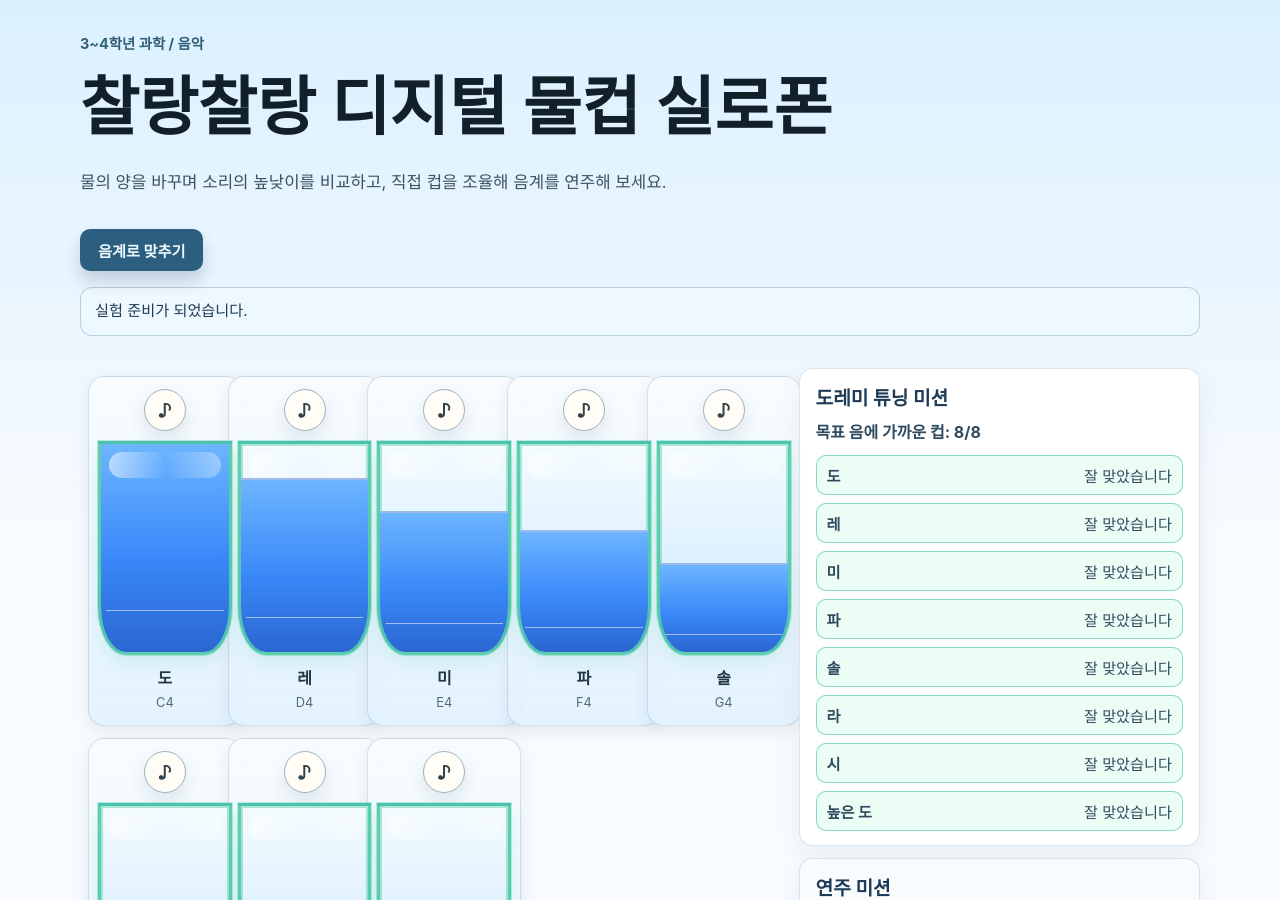
Scenario: App › plays 도 cup and updates status message
The width and height of the screenshot is (1280, 900).
Click the button named "도 컵 치기": (165, 410) [144,389,186,431]
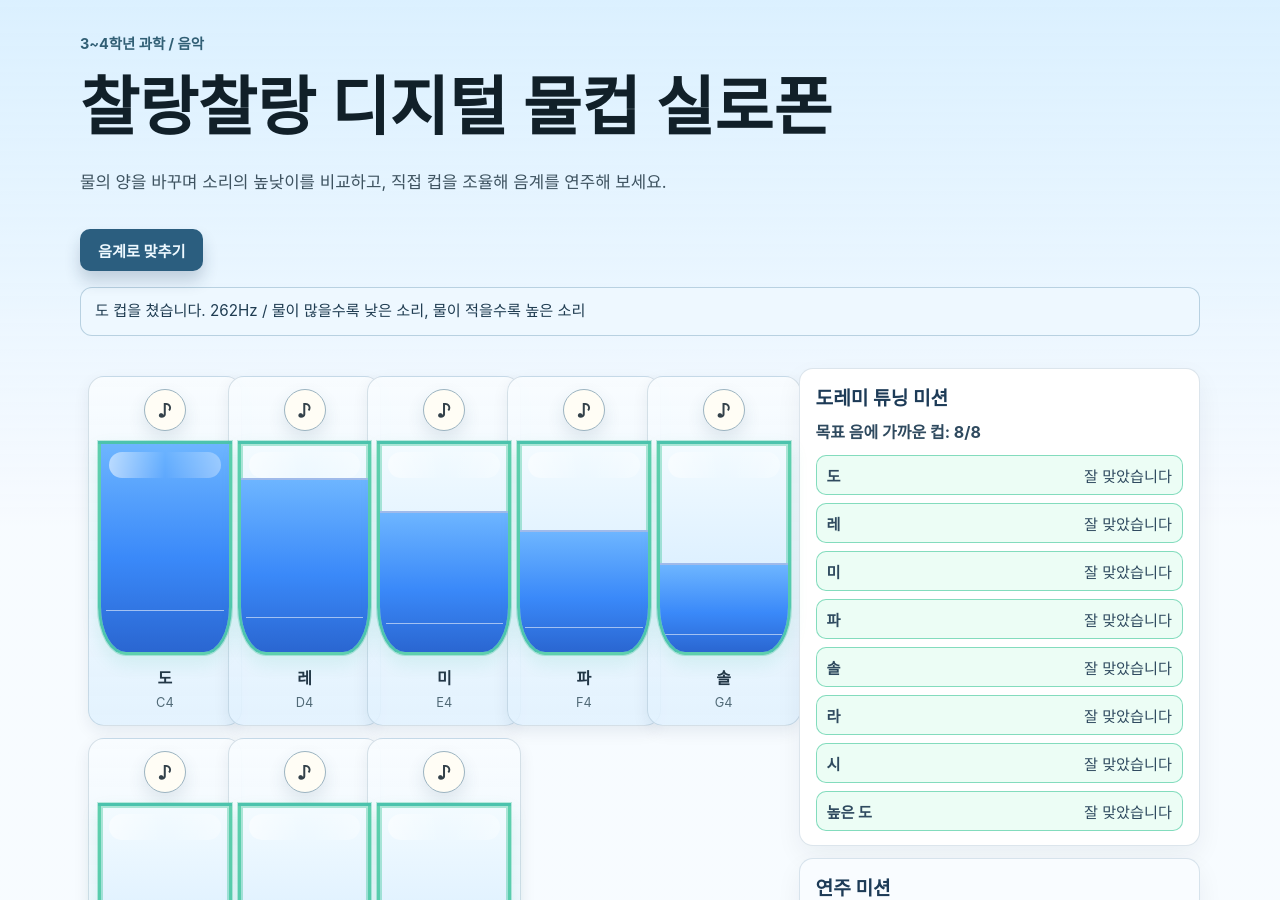
Check: the message shows "도 컵을 쳤습니다", box [95,302,585,320]
Check: the message shows "물이 많을수록 낮은 소리, 물이 적을수록 높은 소리", box [95,302,585,320]
